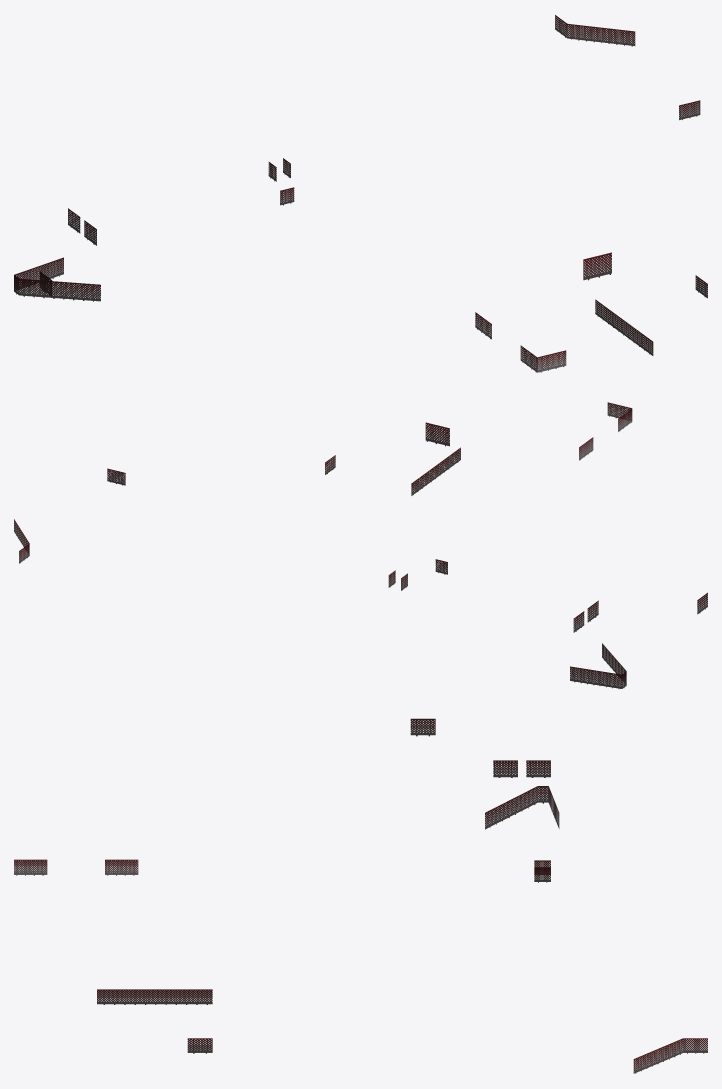
Rendered from ComplexGE_Alpha_9.glb.
3 renders of one model, top to bottom at view 1: azimuth 30°, elevation 25°; view 2: azimuth 150°, elevation 25°; view 3: azimuth 270°, elevation 25°, orthographic. The views are drawn at different scales.
Parts seen in each view (by area): view 1: ComplexGE_Alpha_9; view 2: ComplexGE_Alpha_9; view 3: ComplexGE_Alpha_9.
Boxes of the visible parts, x1=… form: ComplexGE_Alpha_9: x1=14, y1=15, x2=707, y2=372; ComplexGE_Alpha_9: x1=14, y1=402, x2=707, y2=688; ComplexGE_Alpha_9: x1=14, y1=718, x2=707, y2=1073.
Bounding box in the file's own units: 459 × 47.38 × 398.
1 material, 1 textured.
